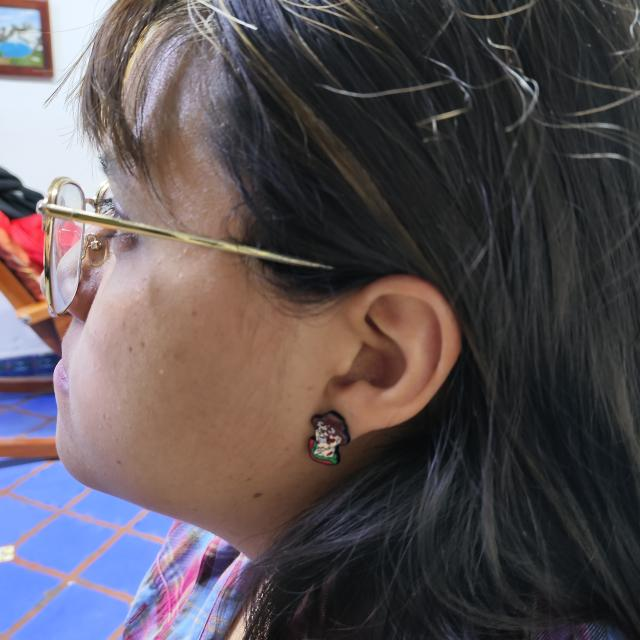ear: (311, 275, 461, 441)
